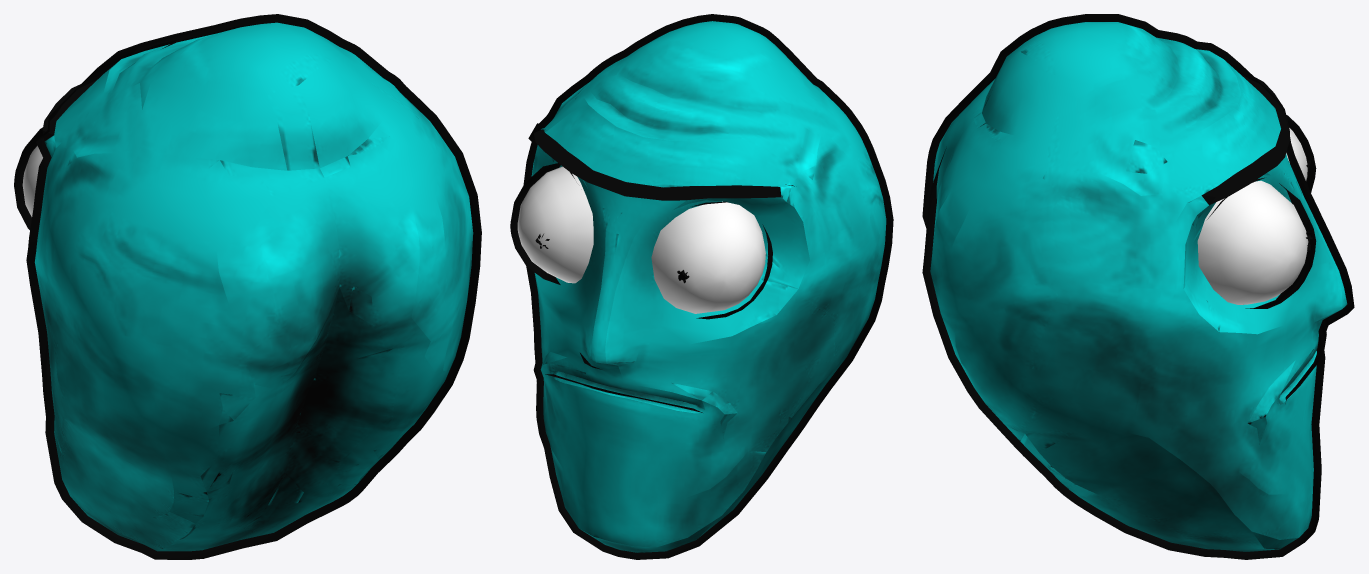
File: cromulon.glb
The picture shows the model from 3 angles, left to right: view 1: azimuth 30°, elevation 25°; view 2: azimuth 150°, elevation 25°; view 3: azimuth 270°, elevation 25°; orthographic projection. The views are drawn at different scales.
Parts seen in each view (by area): view 1: head, outline, eye1, eyebrow; view 2: head, outline, eye1, eye2, eyebrow; view 3: head, outline, eye2, eyebrow.
Part boxes in pixels (x1=…): head: x1=34, y1=22, x2=473, y2=551; outline: x1=14, y1=14, x2=481, y2=559; eye1: x1=22, y1=145, x2=42, y2=216; eyebrow: x1=42, y1=80, x2=96, y2=141; head: x1=531, y1=21, x2=886, y2=552; outline: x1=510, y1=14, x2=893, y2=559; eye1: x1=651, y1=201, x2=765, y2=313; eye2: x1=517, y1=166, x2=593, y2=283; eyebrow: x1=533, y1=129, x2=781, y2=200; head: x1=930, y1=22, x2=1347, y2=551; outline: x1=922, y1=14, x2=1354, y2=559; eye2: x1=1197, y1=180, x2=1308, y2=304; eyebrow: x1=1201, y1=74, x2=1289, y2=205.
Size of the model in its own units: 69.23 by 94.09 by 71.19.
Materials: 4 (1 with a texture image).
